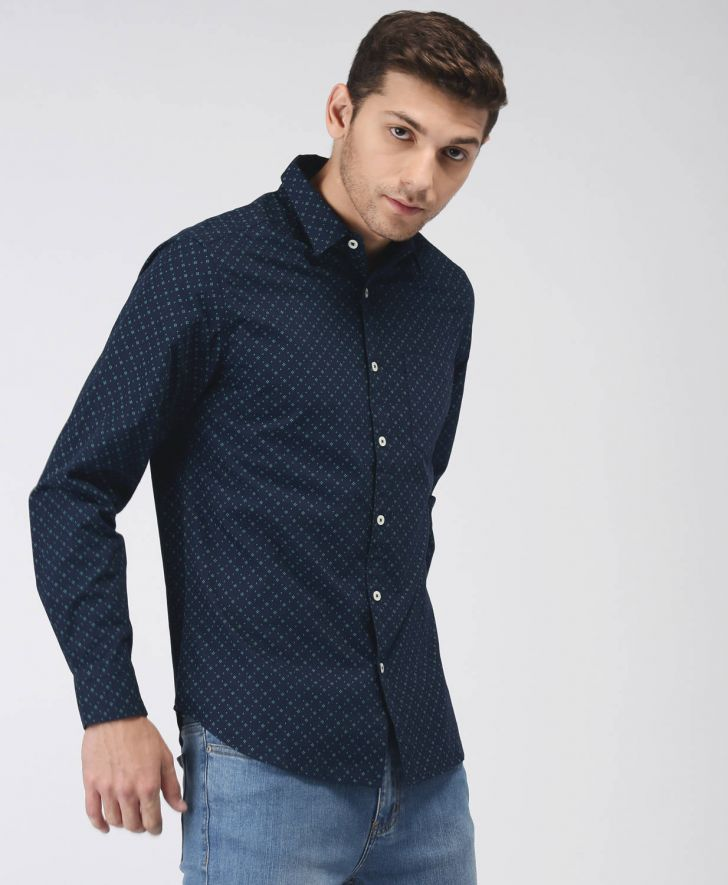Shirt: (16, 136, 547, 800)
